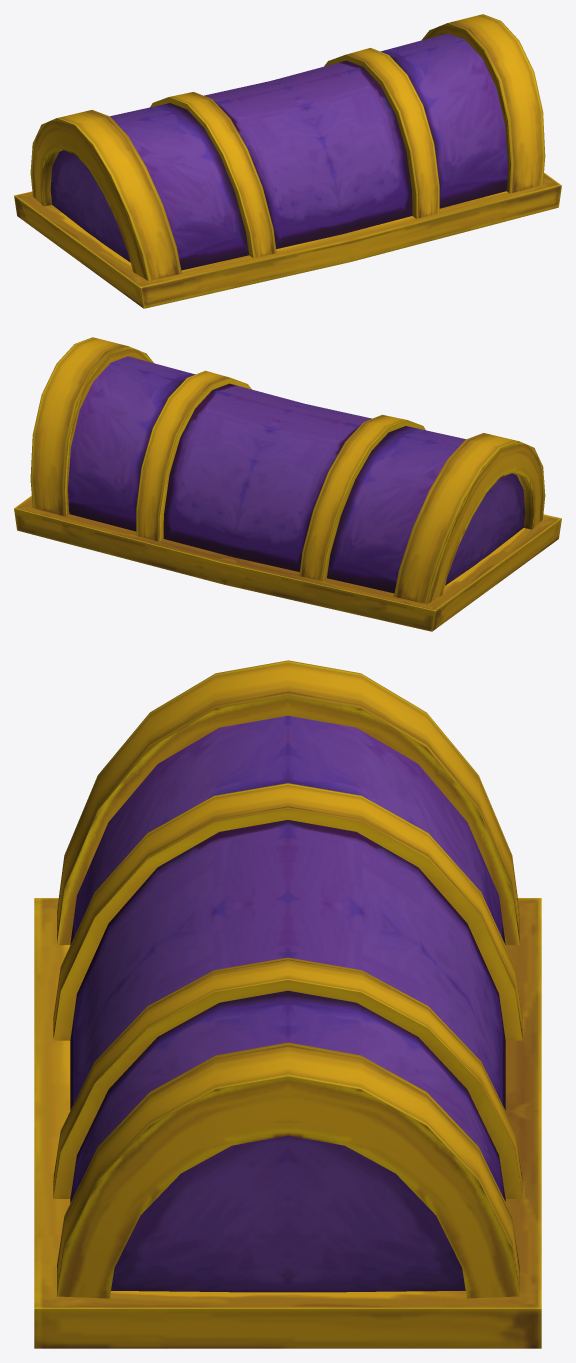
The model's file is e_asset_chest_open_top.fbx.
3 views of the same model, one above another, from view 1: azimuth 30°, elevation 25°; view 2: azimuth 150°, elevation 25°; view 3: azimuth 270°, elevation 25° (orthographic). The views are drawn at different scales.
Parts seen in each view (by area): view 1: polySurface3476; view 2: polySurface3476; view 3: polySurface3476.
Boxes of the visible parts, box(x1,y1,x2,y2) form: polySurface3476: box(14, 14, 561, 308); polySurface3476: box(14, 337, 561, 631); polySurface3476: box(34, 660, 541, 1348).
Bounding box in the file's own units: 0.5923 × 0.189 × 0.3049.
